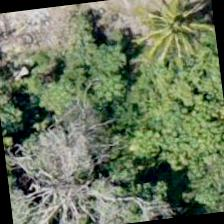Kelapa_Sawit: (127, 0, 220, 87)
